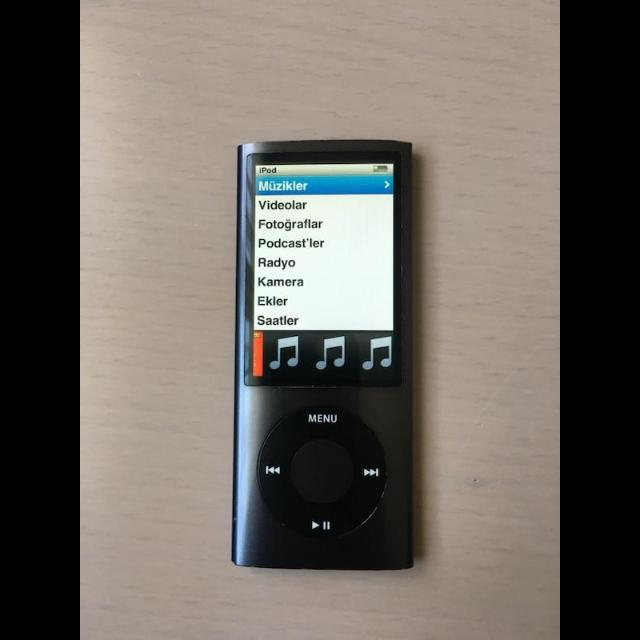Music-Player: (222, 131, 430, 585)
